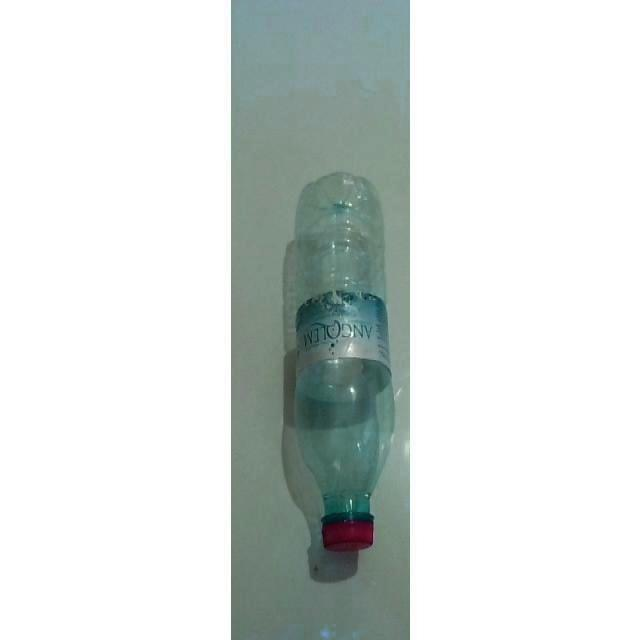bottle: (295, 172, 396, 552)
